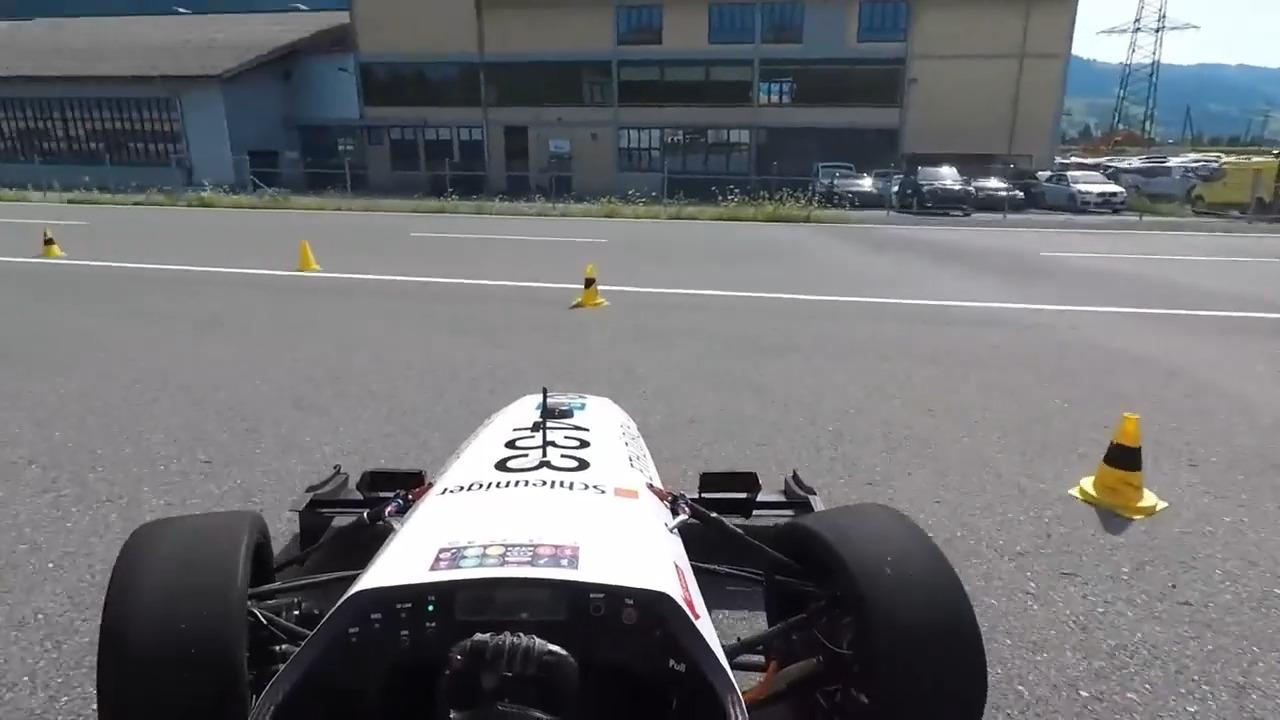yellow_cone: (1069, 411, 1168, 523), (571, 261, 611, 309), (39, 227, 66, 260), (296, 237, 321, 272)
